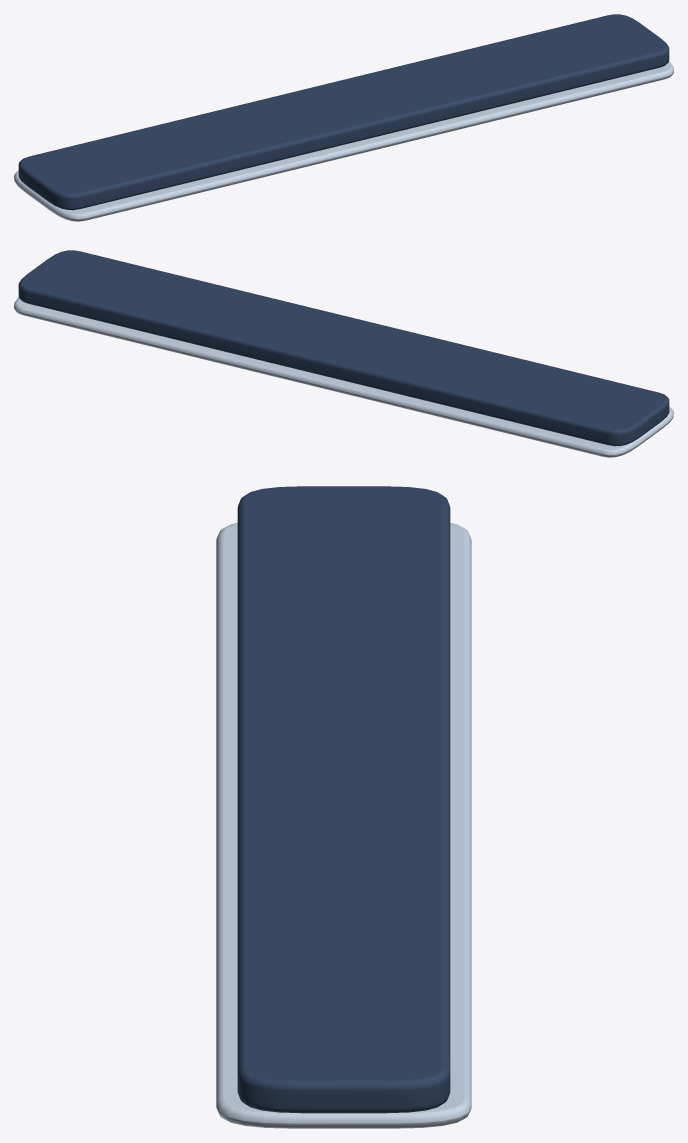
Rendered from AFJ_Lock_Arm_1Unit.fbx.
3 views of the same model, one above another, from view 1: azimuth 30°, elevation 25°; view 2: azimuth 150°, elevation 25°; view 3: azimuth 270°, elevation 25° (orthographic). The views are drawn at different scales.
Parts seen in each view (by area): view 1: Strap, Strap_Metal_Border.009; view 2: Strap, Strap_Metal_Border.009; view 3: Strap, Strap_Metal_Border.009.
Boxes of the visible parts, x1,y1,x2,y2 form: Strap: (18, 14, 669, 210); Strap_Metal_Border.009: (14, 61, 673, 221); Strap: (18, 250, 669, 446); Strap_Metal_Border.009: (14, 297, 673, 457); Strap: (237, 486, 450, 1113); Strap_Metal_Border.009: (216, 523, 471, 1128).
Bounding box in the file's own units: 100 × 3.7 × 18.
